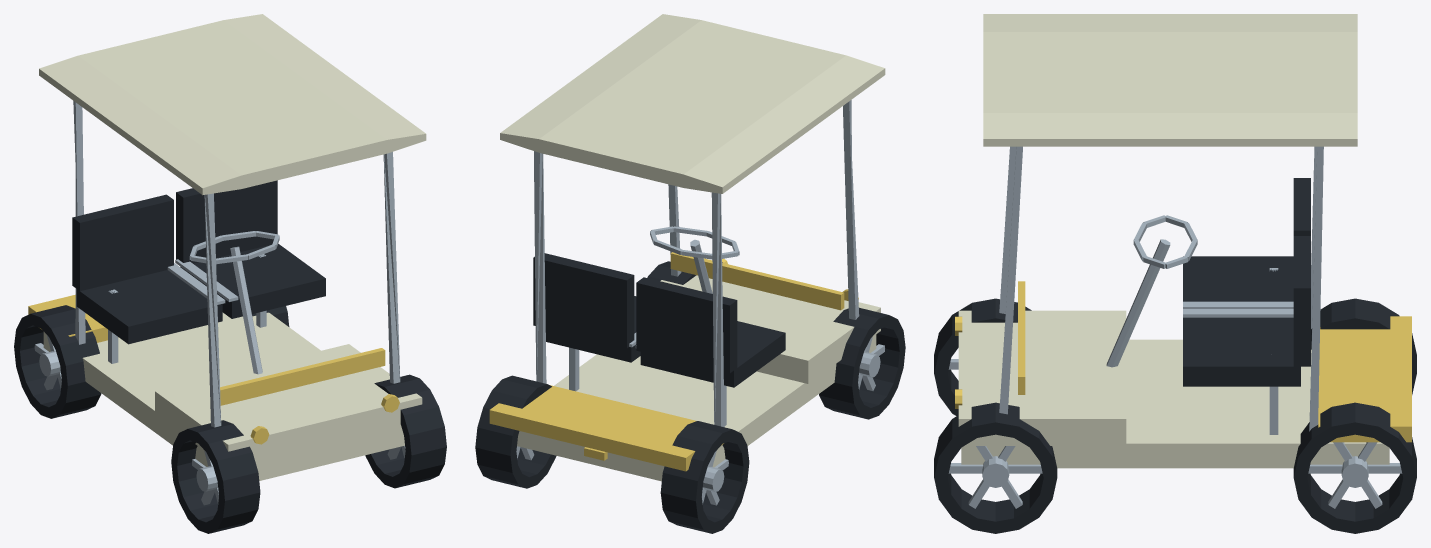
Rendered from golf-cart.glb.
3 views of the same model, side by side, from view 1: azimuth 30°, elevation 25°; view 2: azimuth 150°, elevation 25°; view 3: azimuth 270°, elevation 25° (orthographic). The views are drawn at different scales.
Visible parts, largest first — view 1: bike_body, wheel_front_r, wheel_rear_r, wheel_front_l, fork_mesh; view 2: bike_body, wheel_rear_r, wheel_front_r, wheel_rear_l, fork_mesh, wheel_front_l; view 3: bike_body, wheel_rear_l, wheel_front_l, fork_mesh, wheel_front_r, wheel_rear_r.
Part boxes in pixels (x1,y1,x2,y2): bike_body: (28, 14, 426, 480); wheel_front_r: (171, 420, 260, 533); wheel_rear_r: (14, 305, 101, 418); wheel_front_l: (365, 374, 446, 488); fork_mesh: (189, 231, 279, 374); bike_body: (489, 14, 885, 481); wheel_rear_r: (660, 421, 749, 533); wheel_front_r: (819, 307, 905, 419); wheel_rear_l: (475, 375, 556, 488); fork_mesh: (650, 226, 739, 293); wheel_front_l: (647, 261, 696, 284); bike_body: (955, 14, 1411, 468); wheel_rear_l: (1293, 402, 1416, 533); wheel_front_l: (934, 402, 1057, 533); fork_mesh: (1106, 215, 1197, 367); wheel_front_r: (934, 298, 1031, 415); wheel_rear_r: (1311, 298, 1416, 394).
Bounding box in the file's own units: 1.2 × 1.79 × 1.96.
